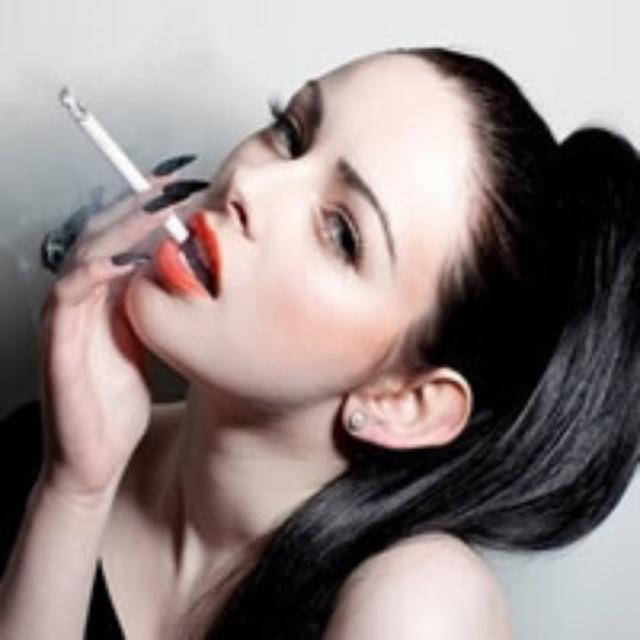SafeDriving: (306, 180, 375, 279)
Smoking: (55, 78, 189, 242)
